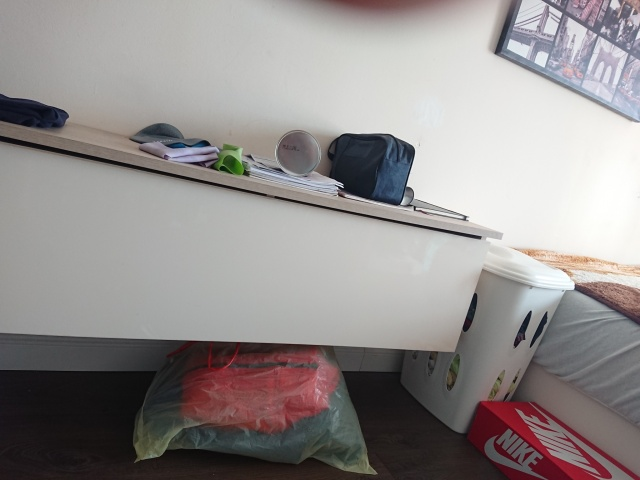Nescafe Classic 225g: (272, 128, 324, 179)
